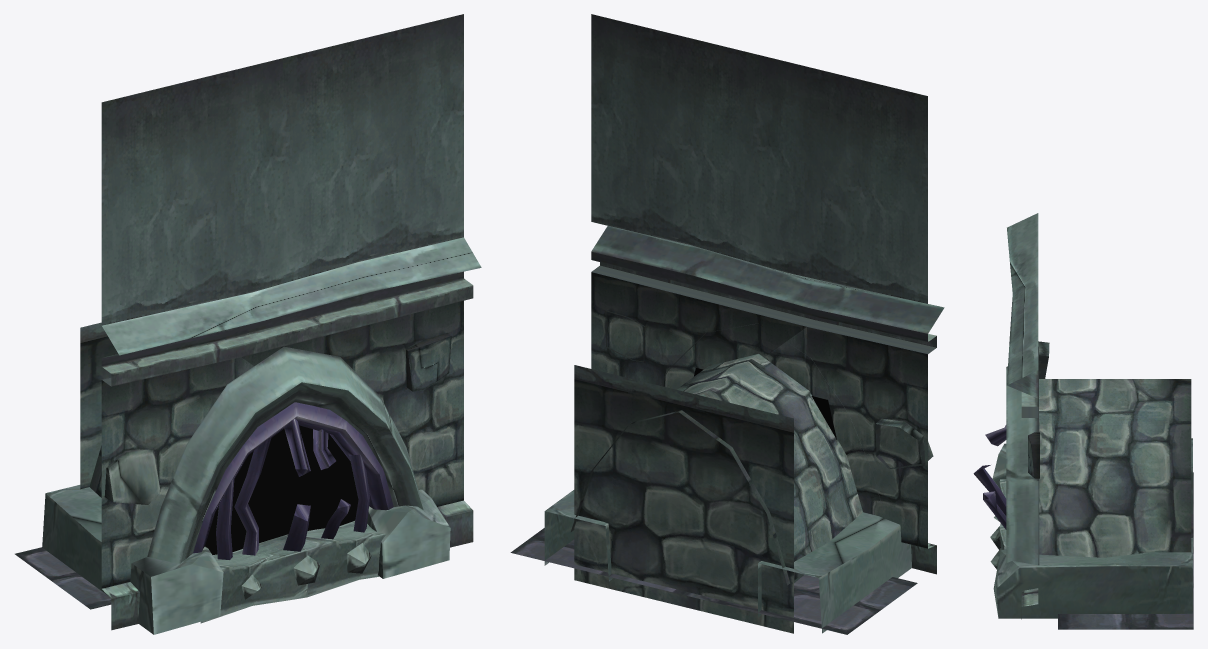
Rendered from crypt_wall_straight_12.fbx.
The picture shows the model from 3 angles, left to right: view 1: azimuth 30°, elevation 25°; view 2: azimuth 150°, elevation 25°; view 3: azimuth 270°, elevation 25°; orthographic projection. The views are drawn at different scales.
Visible parts, largest first — view 1: crypt_wall_straight_12-0; view 2: crypt_wall_straight_12-0; view 3: crypt_wall_straight_12-0.
Boxes of the visible parts, <box> form: crypt_wall_straight_12-0: <box>15,14,481,634</box>; crypt_wall_straight_12-0: <box>510,14,944,634</box>; crypt_wall_straight_12-0: <box>973,213,1193,629</box>.
Size of the model in its own units: 4 by 5.62 by 2.37.
